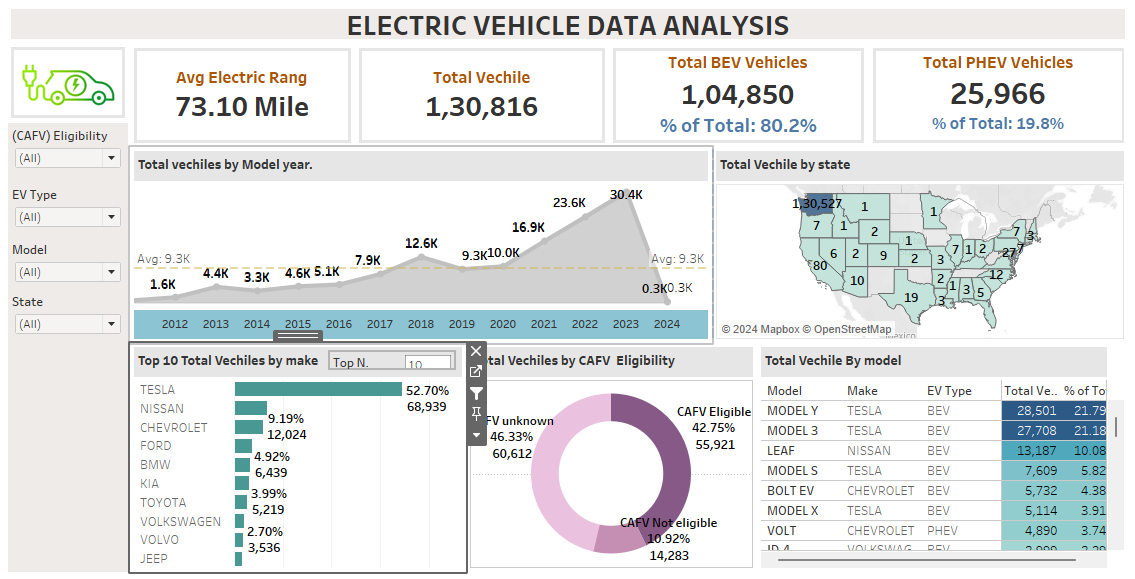

The dashboard page shown, as its layout file describes it:
{"tool":"tableau","page":{"name":"Dashboard 1","canvas":[1138,584],"ordinal":0},"visuals":[{"type":"title","box":[8,8,1122,38]},{"type":"image","param":"C:/Users/HP/Pictures/Screenshots/Screenshot 2024-08-06 222247.png","box":[8,46,122,79]},{"type":"worksheet","title":"Avg Electric Range","mark":"Automatic","box":[131,47,225,103]},{"type":"worksheet","title":"Total Vechile","mark":"Automatic","box":[356,47,254,103]},{"type":"worksheet","title":"Total BEV Vechiles","mark":"Automatic","box":[610,47,259.5,103]},{"type":"worksheet","title":"Total PHEV Vechiles","mark":"Automatic","box":[869.5,47,259.5,103]},{"type":"filter","title":"Total vechiles by Model year.","param":"[federated.1k19hri0fw0sgt1dn95e80i3uqzp].[none:Clean Alternative Fuel Vehicle (C","box":[9,126,120,59]},{"type":"worksheet","title":"Total vechiles by Model year.","mark":"Area","rows":["Calculation_258394072876879872","Calculation_258394072876879872"],"cols":["Model Year"],"box":[131,150,582,196]},{"type":"worksheet","title":"Total Vechiles by state","mark":"Multipolygon","box":[713,150,416,196]},{"type":"filter","title":"Total vechiles by Model year.","param":"[federated.1k19hri0fw0sgt1dn95e80i3uqzp].[none:Electric Vehicle Type:nk]","box":[9,185,120,55]},{"type":"filter","title":"Total vechiles by Model year.","param":"[federated.1k19hri0fw0sgt1dn95e80i3uqzp].[none:Model:nk]","box":[9,240,120,52]},{"type":"filter","title":"Total vechiles by Model year.","param":"[federated.1k19hri0fw0sgt1dn95e80i3uqzp].[none:State:nk]","box":[9,292,120,52]},{"type":"worksheet","title":"Top 10 Total Vechiles by make","mark":"Automatic","rows":["Make"],"cols":["Calculation_258394072876879872"],"box":[131,346,335.7,229]},{"type":"worksheet","title":"Total Vechiles by CAFV  Eligibility","mark":"Pie","rows":["Calculation_258394074398543879","Calculation_258394074398543879"],"box":[466.7,346,291.3,229]},{"type":"worksheet","title":"Total Vechile By model","mark":"Square","rows":["Model","Make","Electric Vehicle Type"],"box":[758,346,371,229]},{"type":"parameter","param":"[Parameters].[Parameter 2]","box":[329,353,128,20]}]}

Visuals, with their boxes in screenshot pixels (x1, y1, x2, y2), scaled from the page's 1138x584 canvas onto the 1135x579 screenshot:
title: (left=8, top=8, right=1127, bottom=46)
image: (left=8, top=46, right=130, bottom=124)
"Avg Electric Range" worksheet: (left=131, top=47, right=355, bottom=149)
"Total Vechile" worksheet: (left=355, top=47, right=608, bottom=149)
"Total BEV Vechiles" worksheet: (left=608, top=47, right=867, bottom=149)
"Total PHEV Vechiles" worksheet: (left=867, top=47, right=1126, bottom=149)
"Total vechiles by Model year." filter: (left=9, top=125, right=129, bottom=183)
"Total vechiles by Model year." worksheet (Area marks): (left=131, top=149, right=711, bottom=343)
"Total Vechiles by state" worksheet (Multipolygon marks): (left=711, top=149, right=1126, bottom=343)
"Total vechiles by Model year." filter: (left=9, top=183, right=129, bottom=238)
"Total vechiles by Model year." filter: (left=9, top=238, right=129, bottom=290)
"Total vechiles by Model year." filter: (left=9, top=290, right=129, bottom=341)
"Top 10 Total Vechiles by make" worksheet: (left=131, top=343, right=465, bottom=570)
"Total Vechiles by CAFV  Eligibility" worksheet (Pie marks): (left=465, top=343, right=756, bottom=570)
"Total Vechile By model" worksheet (Square marks): (left=756, top=343, right=1126, bottom=570)
parameter: (left=328, top=350, right=456, bottom=370)
